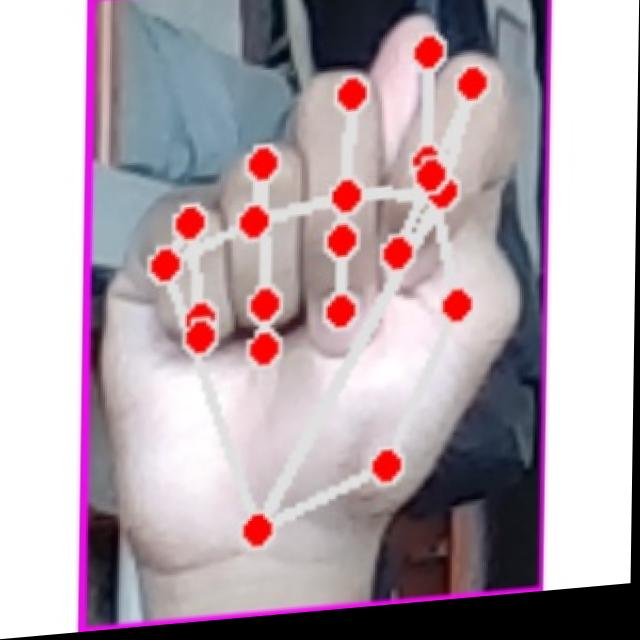T: (99, 3, 529, 573)
